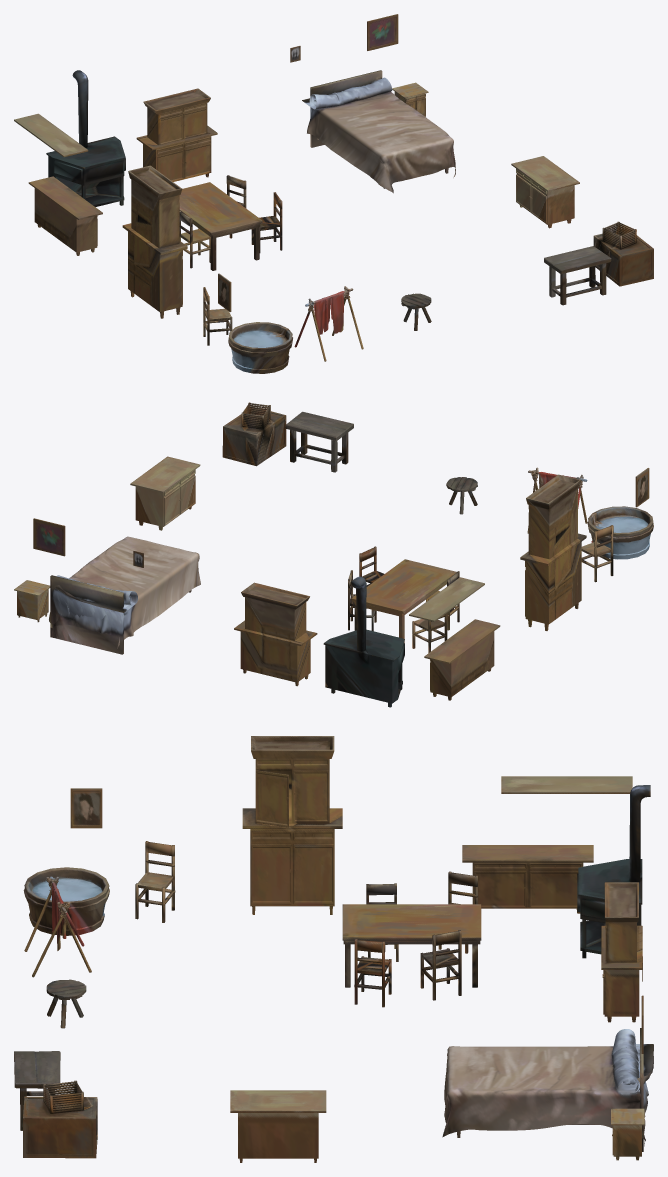
File: InterieurMaison_03.fbx
3 renders of one model, top to bottom at view 1: azimuth 30°, elevation 25°; view 2: azimuth 150°, elevation 25°; view 3: azimuth 270°, elevation 25°, orthographic. The views are drawn at different scales.
Parts seen in each view (by area): view 1: InterieurMaison_03; view 2: InterieurMaison_03; view 3: InterieurMaison_03.
Part boxes in pixels (x1=…): InterieurMaison_03: x1=14, y1=14, x2=653, y2=373; InterieurMaison_03: x1=14, y1=402, x2=653, y2=707; InterieurMaison_03: x1=14, y1=736, x2=653, y2=1162.
Size of the model in its own units: 909 by 283 by 922.
